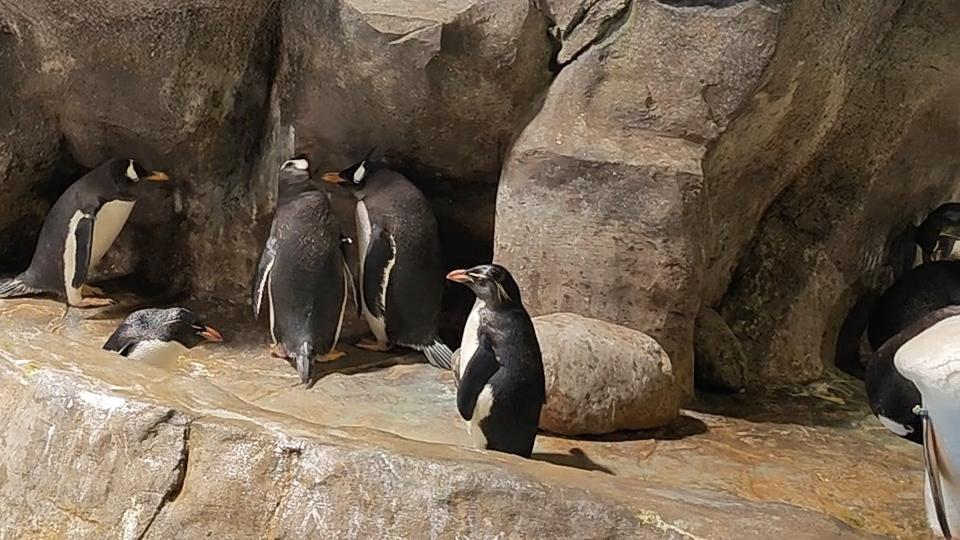Southern Rockhopper Penguin: (434, 259, 557, 467)
